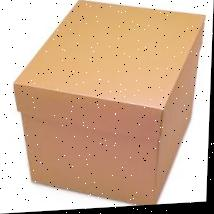cube: (12, 0, 206, 213)
